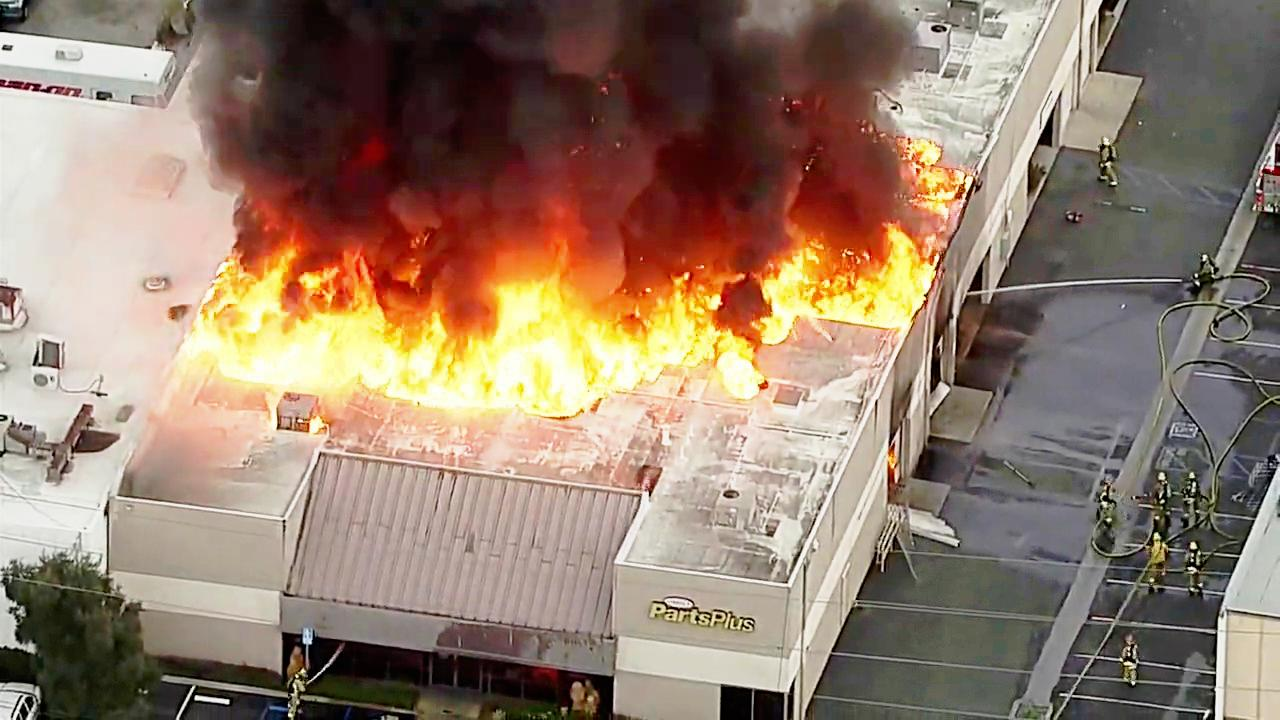fire: (378, 292, 617, 404), (204, 275, 359, 378), (773, 229, 927, 331), (605, 262, 737, 375)
smoke: (245, 0, 934, 202)
